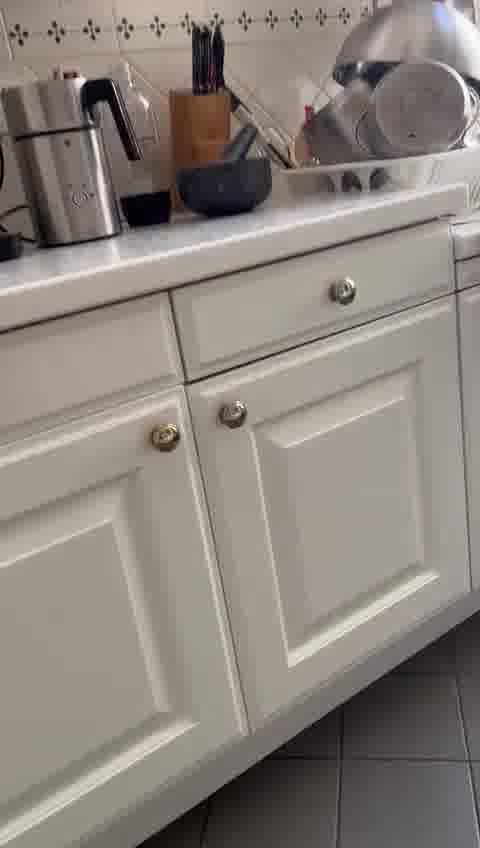cabinet_door: (211, 340, 464, 680), (0, 414, 208, 826), (181, 258, 456, 338)
handle: (211, 392, 253, 440), (144, 416, 185, 460), (328, 279, 358, 310)
